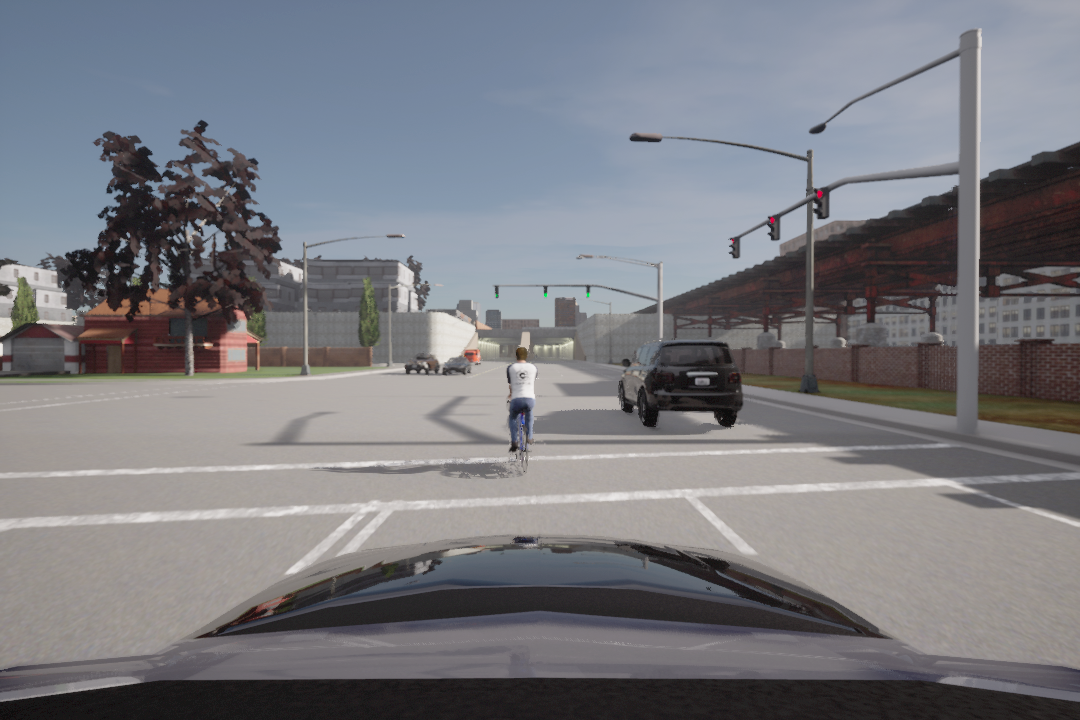TrafficLight: (810, 185, 829, 220), (724, 235, 742, 260), (767, 210, 781, 240), (584, 283, 592, 300), (540, 284, 549, 296), (492, 284, 500, 297)
